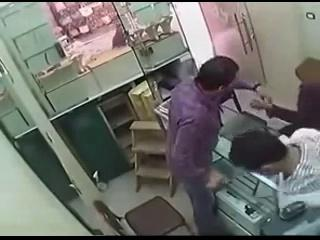Normal: (165, 56, 258, 234)
